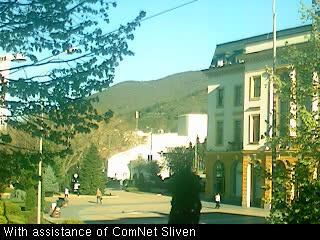person: (94, 188, 102, 203), (215, 192, 221, 209), (119, 179, 124, 190), (64, 187, 68, 198)
